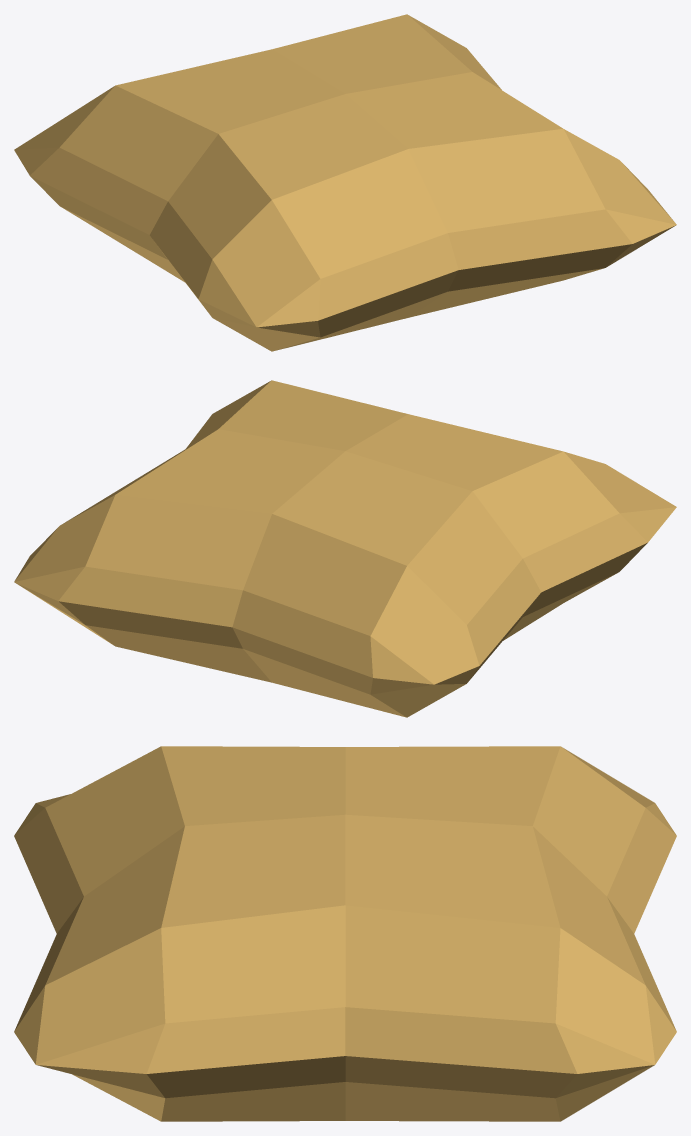
Rendered from SM_Prop_Cushion_02.obj.
3 renders of one model, top to bottom at view 1: azimuth 30°, elevation 25°; view 2: azimuth 150°, elevation 25°; view 3: azimuth 270°, elevation 25°, orthographic. The views are drawn at different scales.
Parts seen in each view (by area): view 1: SM_Prop_Cushion_02_0; view 2: SM_Prop_Cushion_02_0; view 3: SM_Prop_Cushion_02_0.
Boxes of the visible parts, <box> form: SM_Prop_Cushion_02_0: <box>14,14,676,351</box>; SM_Prop_Cushion_02_0: <box>14,380,676,717</box>; SM_Prop_Cushion_02_0: <box>14,746,676,1121</box>.
Size of the model in its own units: 0.5396 by 0.2142 by 0.5396.
Materials: 1 (1 with a texture image).
